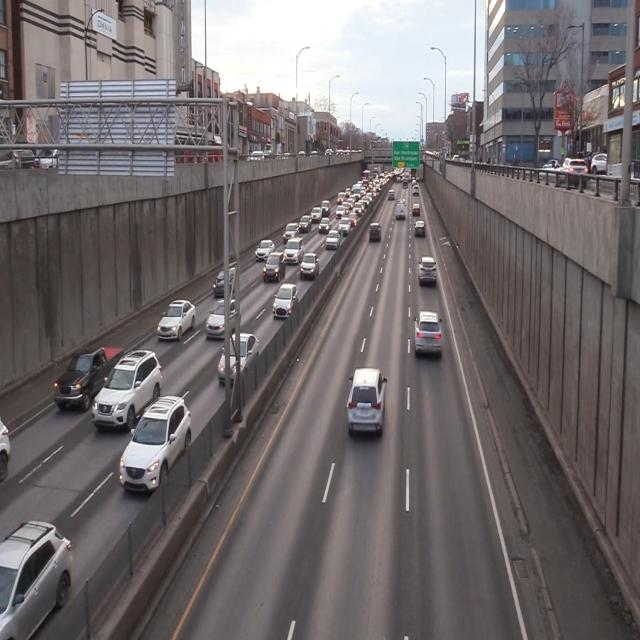Car: (120, 383, 194, 508), (93, 343, 166, 444), (51, 330, 127, 421), (345, 368, 390, 444), (219, 332, 260, 395), (156, 295, 200, 346), (205, 296, 242, 345), (412, 307, 444, 361), (212, 258, 242, 303), (274, 281, 300, 322), (261, 251, 287, 287), (296, 251, 324, 280), (415, 257, 439, 288), (282, 234, 304, 267), (366, 220, 385, 247), (414, 216, 428, 245)
